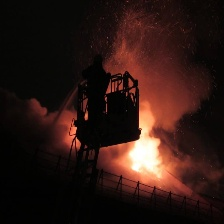fire: (125, 96, 171, 179)
